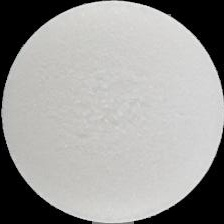0054-0140: (0, 0, 224, 224)
